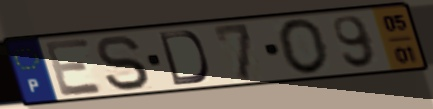7: (211, 20, 254, 84)
9: (333, 14, 381, 70)
D: (156, 29, 211, 88)
E: (41, 36, 107, 99)
O: (276, 16, 332, 76)
S: (93, 33, 153, 92)
